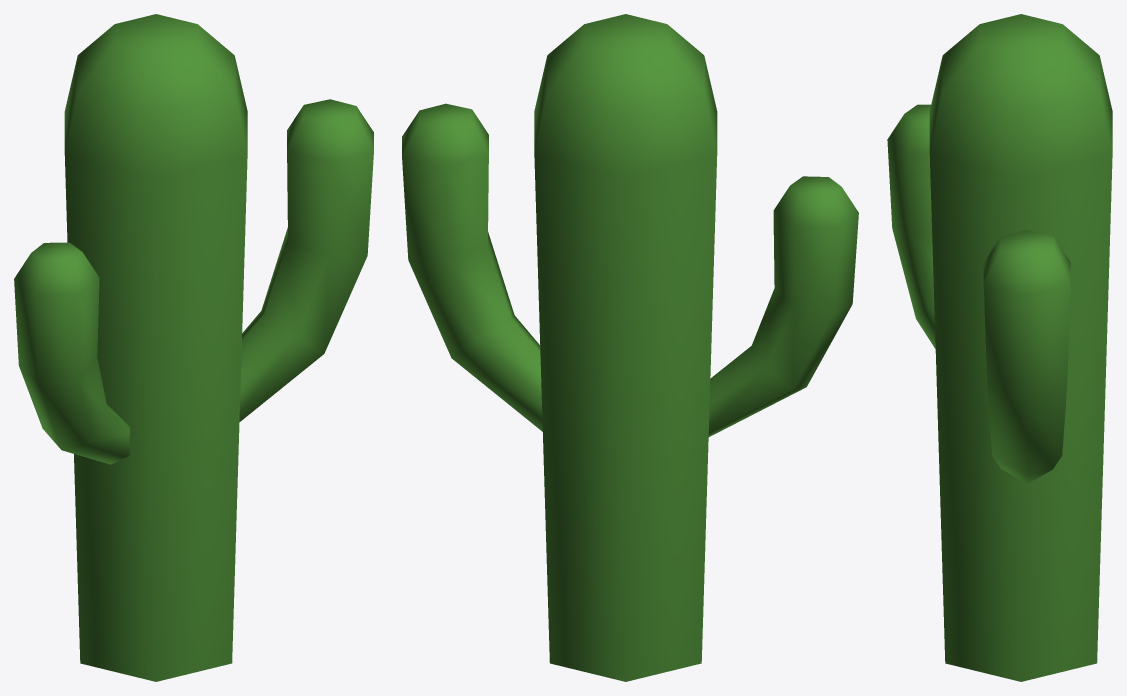
Rendered from Cactus_03.fbx.
The picture shows the model from 3 angles, left to right: view 1: azimuth 30°, elevation 25°; view 2: azimuth 150°, elevation 25°; view 3: azimuth 270°, elevation 25°; orthographic projection.
Parts seen in each view (by area): view 1: Cactus_03; view 2: Cactus_03; view 3: Cactus_03.
Boxes of the visible parts, x1,y1,x2,y2 form: Cactus_03: (14, 14, 373, 681); Cactus_03: (402, 14, 858, 681); Cactus_03: (887, 14, 1112, 681).
Size of the model in its own units: 670 by 983 by 329.
